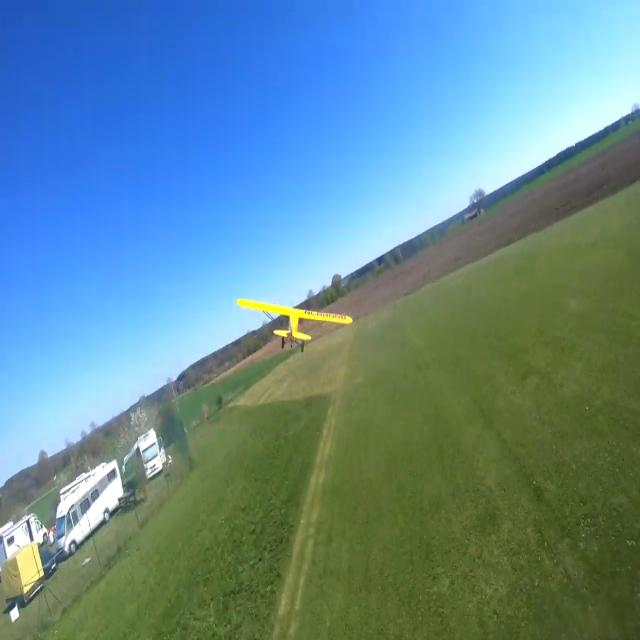iha: (268, 293, 320, 354)
